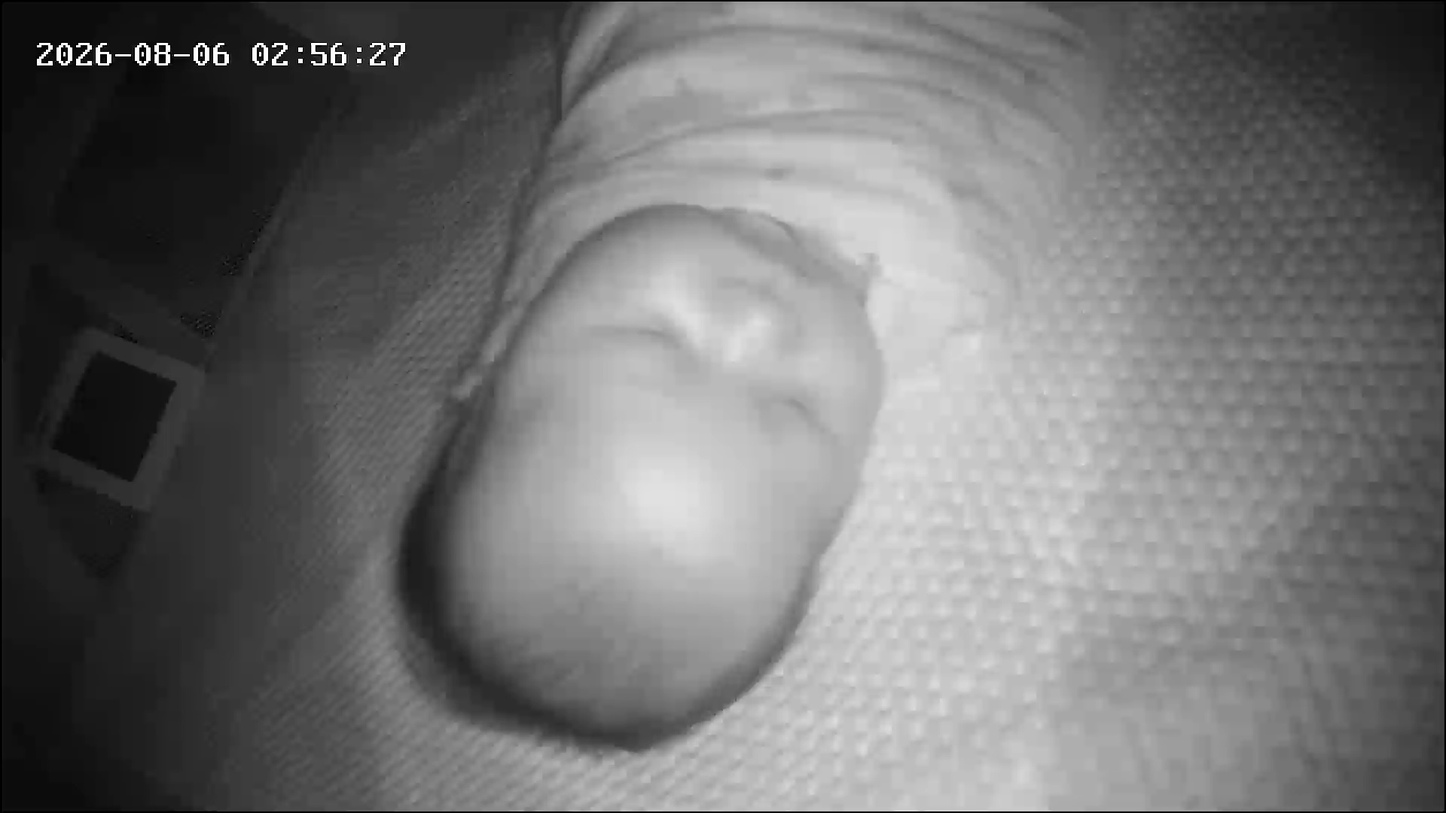baby: (372, 4, 1135, 759)
baby_face: (399, 209, 902, 742)
